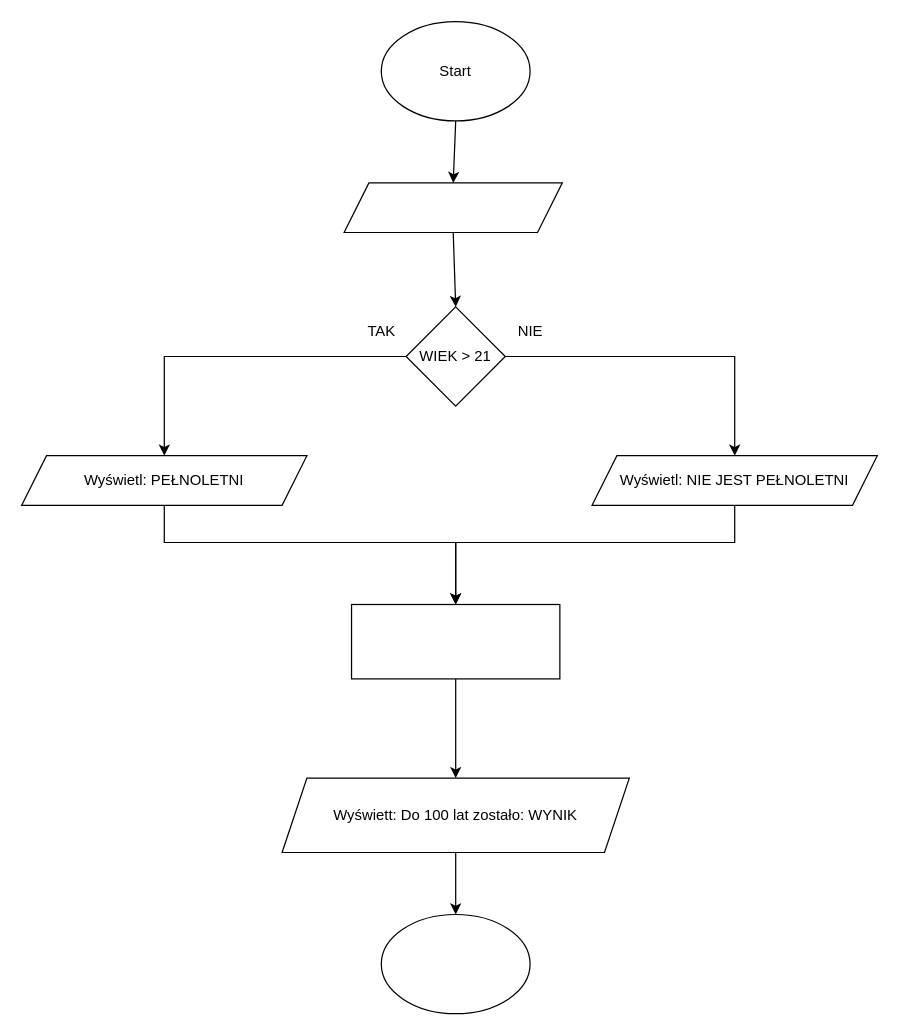
Image size: 899x1035. Some labels were removed from this diagram. The box of each missing label's shape, as (x1, y1, x2, y2) in pixels:
STOP: (380, 913, 530, 1014)
Wprowadź imię: IMIE Wprowadź: WIEK: (343, 182, 562, 232)
Wynik = 100 - WIEK: (350, 603, 560, 679)
